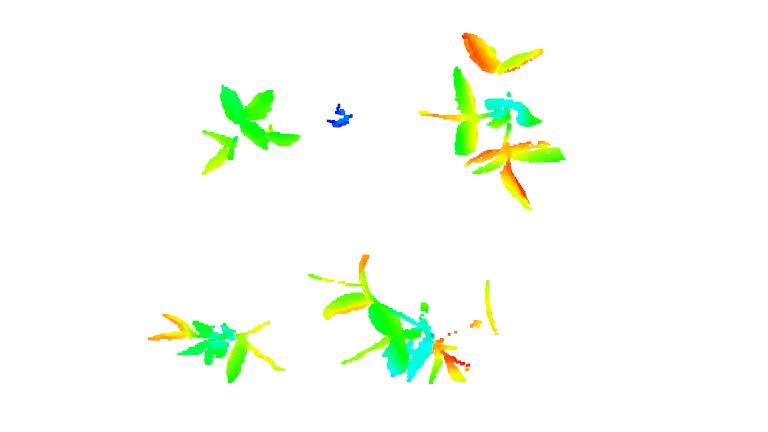mungbean: (427, 28, 570, 211), (318, 248, 471, 393), (186, 79, 306, 176), (143, 311, 291, 384)
